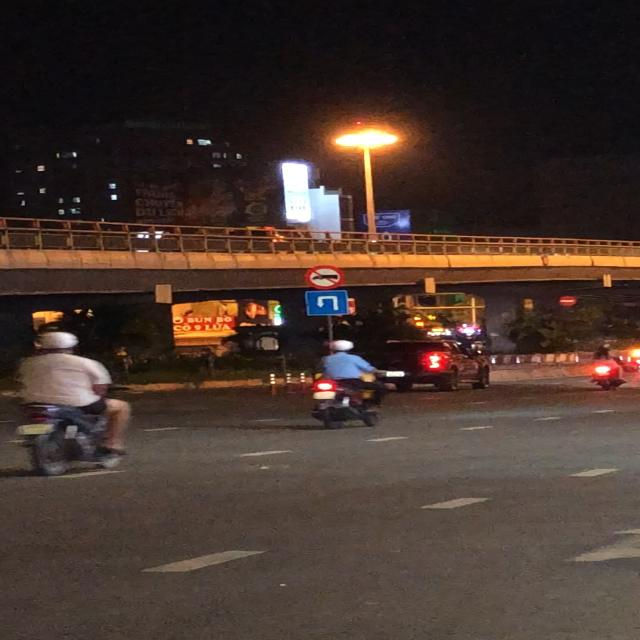Bien bao cam xe so-mi ro-mooc: (302, 264, 348, 290)
